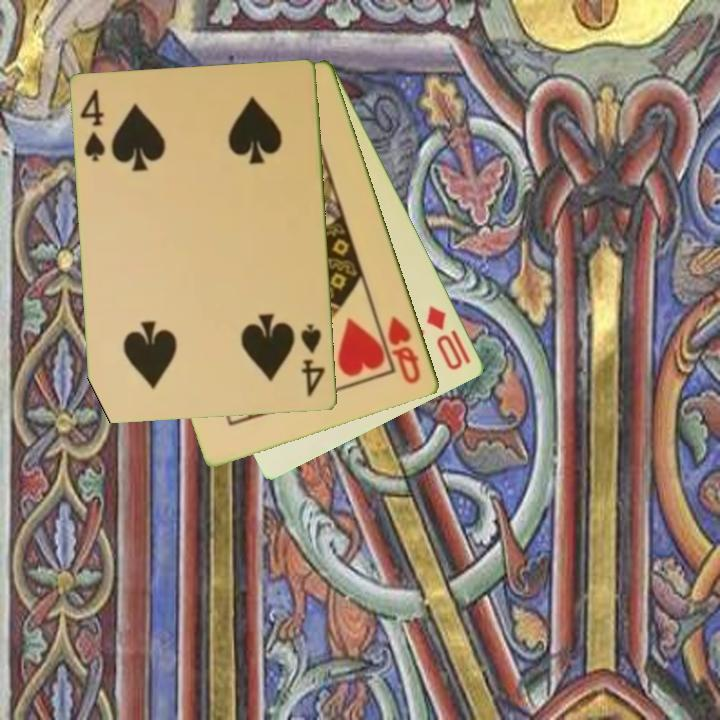10d: (423, 303, 467, 374)
4s: (298, 321, 329, 400), (77, 86, 108, 165)
Qh: (384, 313, 424, 387)
